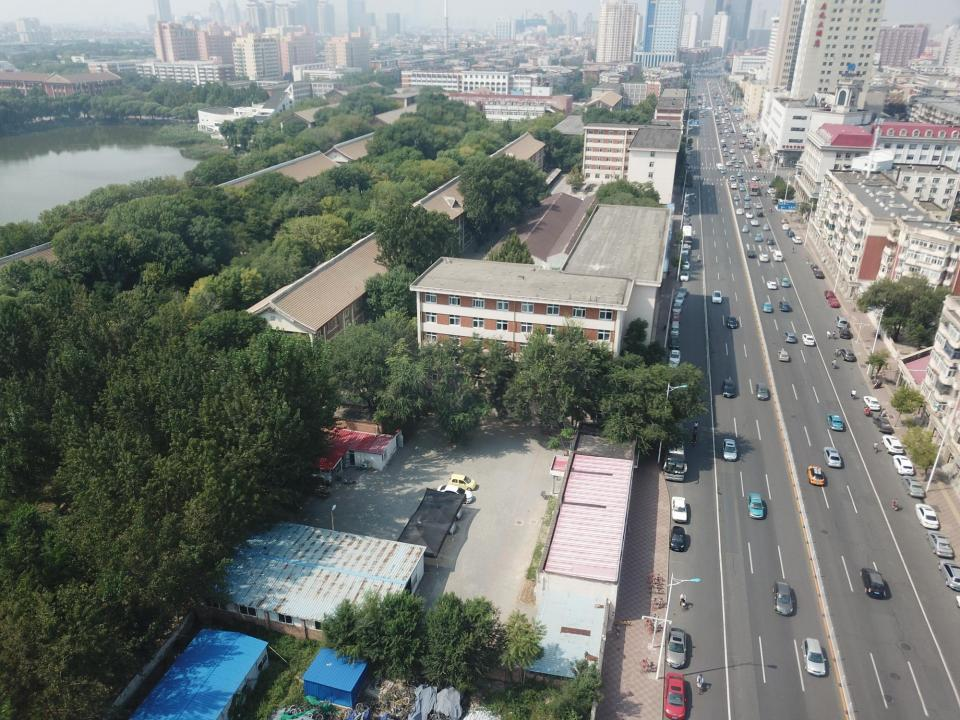bus: (747, 181, 758, 196)
car: (664, 672, 687, 720), (801, 637, 826, 676), (416, 514, 458, 535), (772, 578, 794, 616), (860, 568, 886, 600), (926, 530, 954, 558), (436, 484, 474, 504), (427, 500, 463, 521), (938, 559, 960, 592), (914, 503, 939, 530), (900, 476, 925, 498), (447, 474, 477, 491), (746, 492, 764, 520), (892, 454, 914, 476), (881, 435, 904, 455), (669, 525, 686, 552), (671, 495, 687, 523), (823, 446, 842, 468), (721, 438, 738, 462), (807, 465, 825, 487), (872, 416, 894, 433), (826, 414, 843, 432), (722, 378, 736, 399), (862, 396, 880, 412), (755, 382, 769, 401), (668, 349, 682, 365), (839, 348, 855, 361), (667, 336, 680, 351), (726, 314, 738, 330), (802, 333, 815, 347), (839, 326, 851, 340), (777, 350, 790, 362), (835, 315, 848, 327), (782, 332, 796, 343), (712, 289, 722, 304), (778, 300, 790, 312), (681, 244, 689, 260), (773, 250, 783, 262), (766, 280, 778, 290), (828, 298, 840, 308), (813, 270, 826, 279), (679, 271, 689, 282), (779, 277, 790, 287), (762, 302, 772, 312), (770, 193, 778, 205), (823, 290, 835, 298), (758, 253, 768, 262), (680, 261, 690, 270), (791, 236, 802, 244), (754, 157, 762, 167), (746, 250, 756, 258), (754, 233, 762, 242), (785, 230, 795, 237), (794, 170, 805, 176), (741, 224, 749, 232), (736, 207, 744, 215), (744, 211, 753, 218), (715, 163, 723, 170), (754, 202, 762, 209), (766, 238, 774, 245), (780, 217, 789, 223), (743, 194, 750, 201), (752, 176, 760, 182), (756, 211, 764, 217), (750, 219, 758, 225), (730, 183, 737, 189), (744, 202, 750, 209), (763, 224, 770, 230), (782, 224, 789, 230), (767, 188, 774, 194), (726, 160, 732, 166), (729, 175, 735, 181), (733, 194, 739, 200), (739, 185, 745, 191), (748, 142, 752, 150), (751, 150, 757, 155), (737, 171, 742, 177), (774, 205, 779, 211), (723, 152, 728, 157), (730, 159, 735, 164), (739, 158, 744, 163), (720, 139, 726, 143), (729, 149, 735, 153), (732, 154, 736, 160), (734, 164, 740, 168), (720, 169, 726, 173), (738, 178, 744, 182), (731, 140, 736, 144), (746, 138, 750, 143), (724, 148, 728, 152), (752, 155, 758, 157)
truck: (738, 140, 745, 148)
van: (662, 430, 687, 482), (665, 625, 687, 669), (681, 225, 692, 244), (721, 143, 728, 147)
